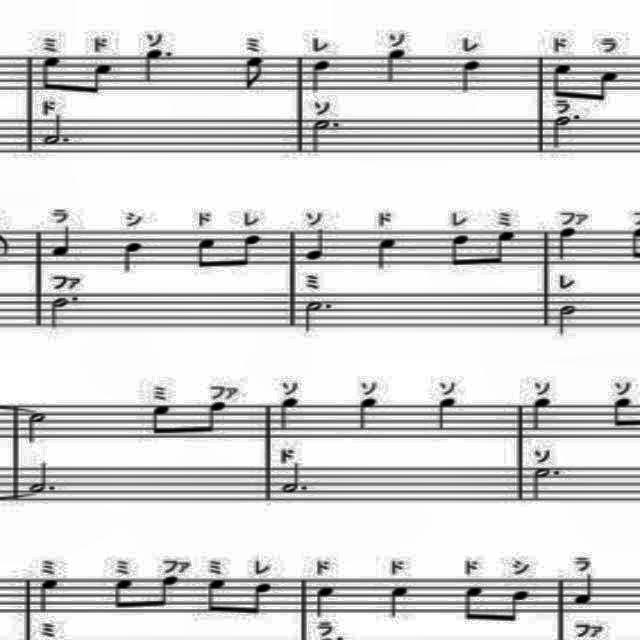Eighth-note: (500, 584, 536, 632), (82, 56, 118, 100), (484, 227, 520, 270), (242, 578, 276, 622), (459, 578, 488, 628), (241, 51, 273, 94), (196, 398, 230, 438), (107, 575, 141, 615), (236, 230, 264, 278), (588, 65, 620, 107), (204, 574, 232, 622), (607, 394, 640, 434), (39, 54, 70, 94), (548, 58, 576, 102), (148, 573, 180, 611), (149, 400, 179, 440), (445, 232, 473, 272), (192, 236, 220, 274), (639, 394, 640, 434)
Half-dot: (42, 286, 86, 334), (549, 106, 587, 154), (304, 116, 346, 158), (298, 296, 338, 340), (25, 458, 67, 498), (38, 111, 76, 151), (530, 462, 566, 502), (280, 458, 316, 498)
Half-note: (24, 410, 52, 446), (554, 301, 580, 339)
Quarter-dot: (137, 45, 179, 83)
Quarter-note: (551, 222, 589, 262), (380, 47, 416, 85), (34, 574, 66, 616), (355, 394, 385, 438), (45, 221, 79, 259), (452, 56, 484, 96), (432, 393, 463, 432), (375, 233, 403, 275), (278, 394, 306, 434), (527, 394, 555, 434), (310, 582, 338, 622), (388, 582, 416, 622), (308, 57, 336, 95), (303, 227, 331, 263), (574, 571, 598, 611), (119, 240, 145, 274)
